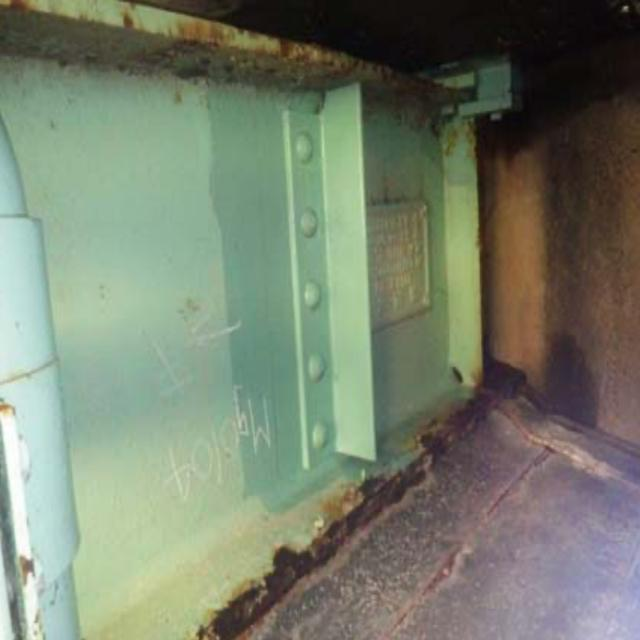corrosion: (117, 14, 447, 110)
